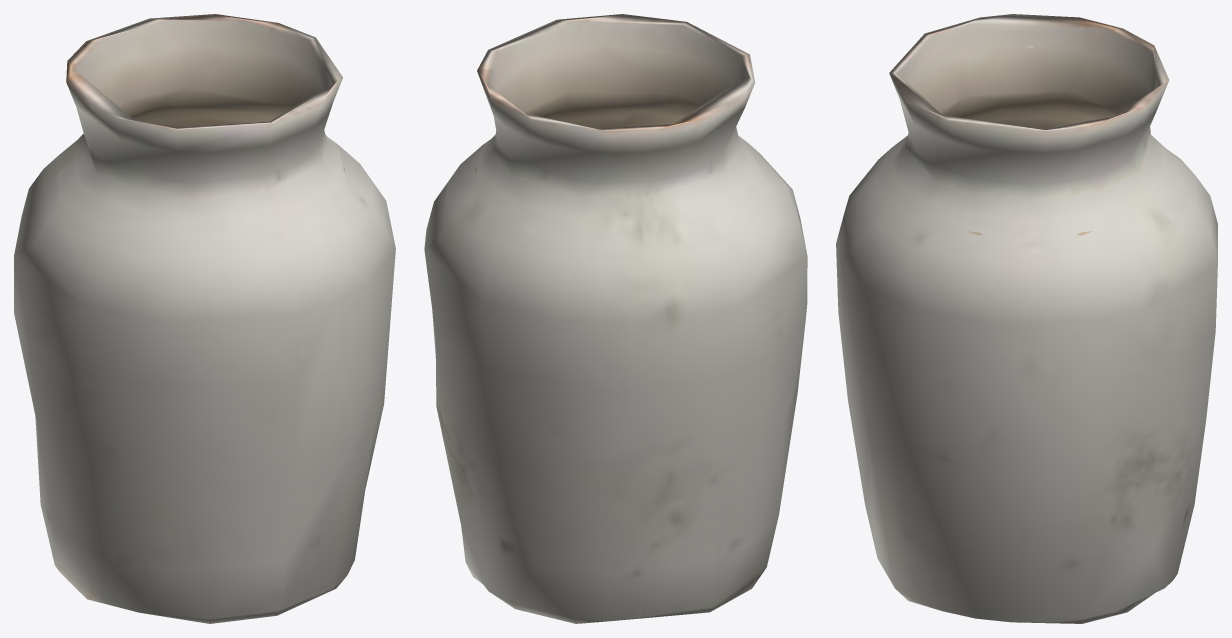
File: ceramic_vase_02.gltf
The picture shows the model from 3 angles, left to right: view 1: azimuth 30°, elevation 25°; view 2: azimuth 150°, elevation 25°; view 3: azimuth 270°, elevation 25°; orthographic projection.
Parts seen in each view (by area): view 1: ceramic_vase_02; view 2: ceramic_vase_02; view 3: ceramic_vase_02.
Part boxes in pixels (x1,y1,x2,y2): ceramic_vase_02: [14, 14, 395, 623]; ceramic_vase_02: [424, 14, 807, 623]; ceramic_vase_02: [836, 14, 1217, 623].
Size of the model in its own units: 0.2148 by 0.3053 by 0.2145.
Materials: 1 (1 with a texture image).
